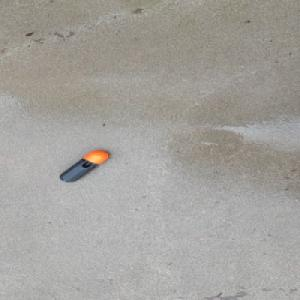PlasticPart: (57, 149, 109, 182)
